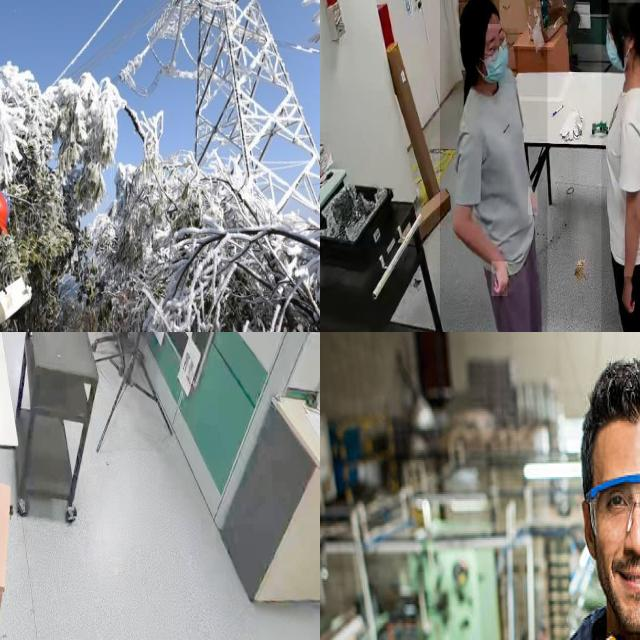No_Ear-Protection: (578, 497, 598, 566), (0, 188, 10, 257)
face_mask: (480, 28, 518, 84)
face_nomask: (596, 505, 640, 633)
glasses: (586, 474, 640, 535)
hand_noglove: (618, 276, 636, 316), (492, 261, 508, 297), (528, 187, 538, 216)
head_nohelmet: (582, 359, 640, 496), (459, 0, 500, 25)
person: (440, 0, 548, 332), (601, 0, 640, 332)
